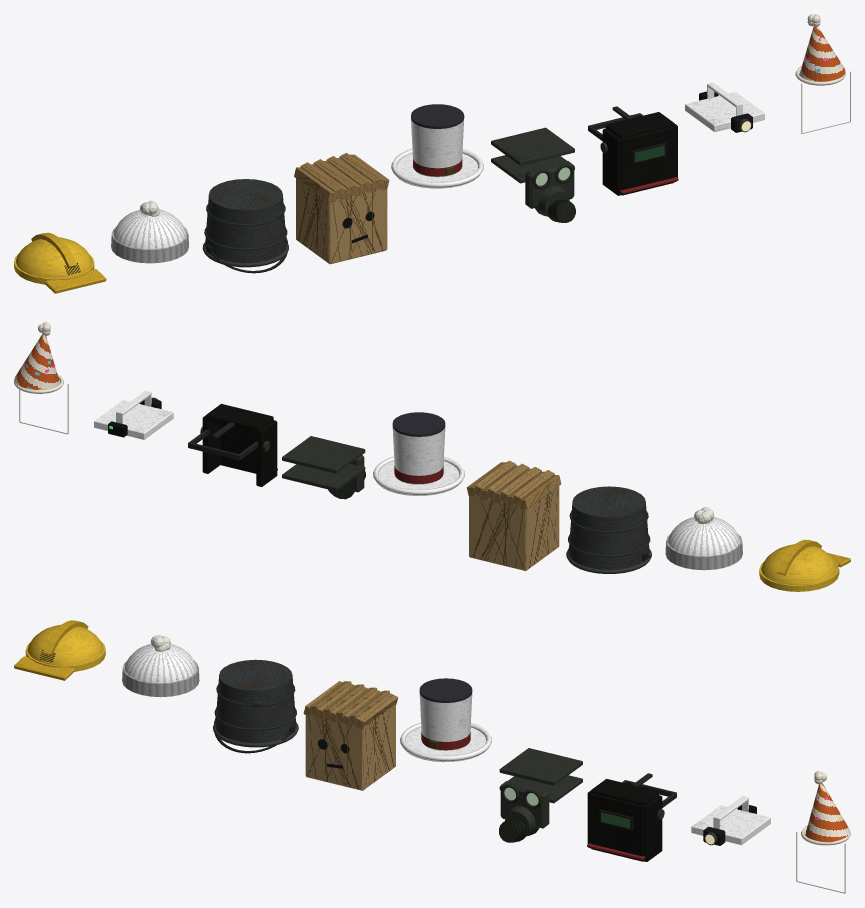
File: hats.glb
3 views of the same model, one above another, from view 1: azimuth 30°, elevation 25°; view 2: azimuth 150°, elevation 25°; view 3: azimuth 330°, elevation 25° (orthographic).
Visible parts, largest first — view 1: bag, pail, front, body, crown, shell, bottom, strap1, around, cone, cuff, crowntop (+8 smaller); view 2: bag, pail, body, shell, crown, bottom, strap1, around, cone, strap0, front, cuff (+8 smaller); view 3: bag, pail, front, body, crown, shell, bottom, strap1, around, cone, cuff, crowntop (+8 smaller).
Part boxes in pixels (bbox=[...]): bag: bbox=[296, 178, 387, 264]; pail: bbox=[205, 196, 286, 263]; front: bbox=[621, 126, 675, 195]; body: bbox=[113, 209, 186, 249]; crown: bbox=[411, 118, 464, 177]; shell: bbox=[16, 237, 92, 278]; bottom: bbox=[208, 179, 282, 211]; strap1: bbox=[491, 127, 574, 165]; around: bbox=[685, 92, 764, 131]; cone: bbox=[799, 26, 845, 81]; cuff: bbox=[111, 226, 188, 263]; crowntop: bbox=[411, 104, 464, 128]; bag: bbox=[469, 486, 559, 570]; pail: bbox=[568, 504, 649, 569]; body: bbox=[668, 516, 740, 556]; shell: bbox=[761, 544, 837, 585]; crown: bbox=[392, 427, 445, 484]; bottom: bbox=[572, 486, 645, 518]; strap1: bbox=[282, 436, 365, 473]; around: bbox=[94, 400, 173, 439]; cone: bbox=[14, 334, 59, 389]; strap0: bbox=[282, 464, 365, 491]; front: bbox=[221, 424, 256, 473]; cuff: bbox=[665, 533, 742, 570]; bag: bbox=[305, 704, 395, 790]; pail: bbox=[215, 677, 296, 743]; front: bbox=[590, 793, 644, 861]; body: bbox=[124, 643, 196, 683]; crown: bbox=[419, 693, 472, 750]; shell: bbox=[27, 624, 103, 665]; bottom: bbox=[219, 659, 292, 691]; strap1: bbox=[499, 748, 582, 785]; around: bbox=[691, 805, 770, 845]; cone: bbox=[805, 783, 850, 842]; cuff: bbox=[122, 660, 199, 697]; crowntop: bbox=[419, 678, 472, 702].
Size of the model in its own units: 7.32 by 1.02 by 0.8885.
42 materials, 32 textured.
